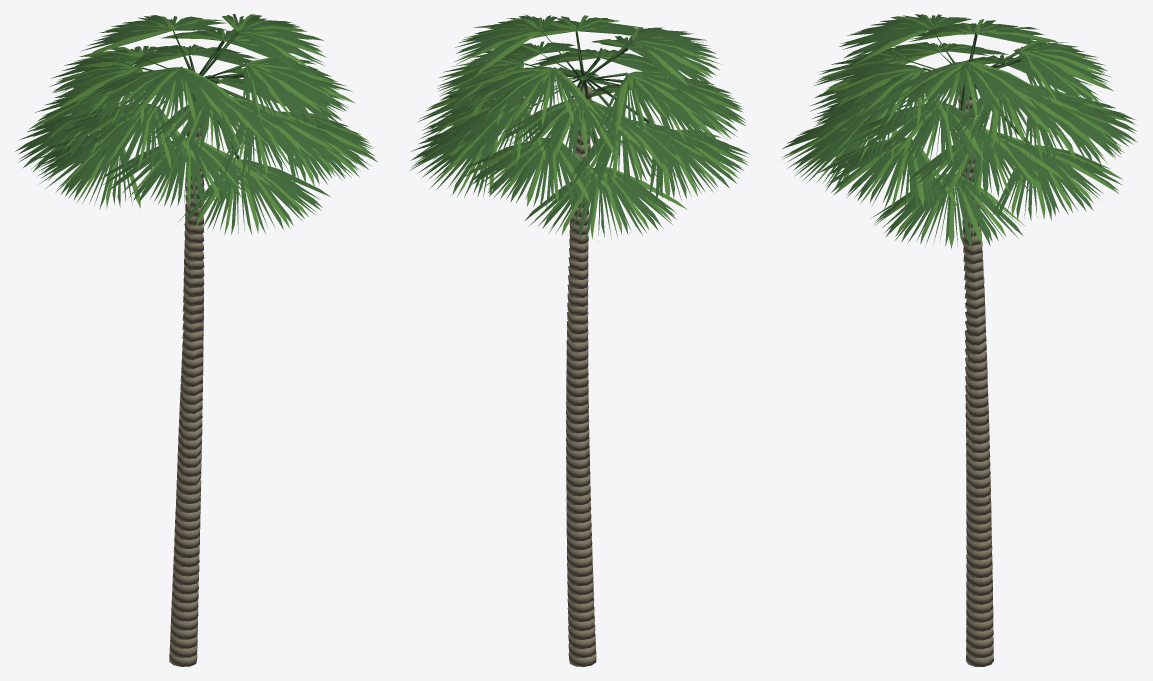
File: Production_Washingtonia_0-mobile.glb
3 renders of one model, left to right at view 1: azimuth 30°, elevation 25°; view 2: azimuth 150°, elevation 25°; view 3: azimuth 270°, elevation 25°, orthographic.
Visible parts, largest first — view 1: Production_Washingtonia_0_Landscape_LeafDark, Production_Washingtonia_0_Landscape_LeafSun, Production_Washingtonia_0_Landscape_PalmTrunk; view 2: Production_Washingtonia_0_Landscape_LeafDark, Production_Washingtonia_0_Landscape_LeafSun, Production_Washingtonia_0_Landscape_PalmTrunk; view 3: Production_Washingtonia_0_Landscape_LeafDark, Production_Washingtonia_0_Landscape_LeafSun, Production_Washingtonia_0_Landscape_PalmTrunk.
Boxes of the visible parts, x1=… form: Production_Washingtonia_0_Landscape_LeafDark: x1=15, y1=14, x2=377, y2=235; Production_Washingtonia_0_Landscape_LeafSun: x1=28, y1=14, x2=371, y2=234; Production_Washingtonia_0_Landscape_PalmTrunk: x1=169, y1=92, x2=204, y2=666; Production_Washingtonia_0_Landscape_LeafDark: x1=410, y1=14, x2=749, y2=241; Production_Washingtonia_0_Landscape_LeafSun: x1=415, y1=15, x2=748, y2=238; Production_Washingtonia_0_Landscape_PalmTrunk: x1=566, y1=85, x2=596, y2=666; Production_Washingtonia_0_Landscape_LeafDark: x1=781, y1=14, x2=1137, y2=249; Production_Washingtonia_0_Landscape_LeafSun: x1=782, y1=14, x2=1135, y2=248; Production_Washingtonia_0_Landscape_PalmTrunk: x1=958, y1=87, x2=993, y2=666.
Size of the model in its own units: 4.91 by 9.22 by 4.81.
